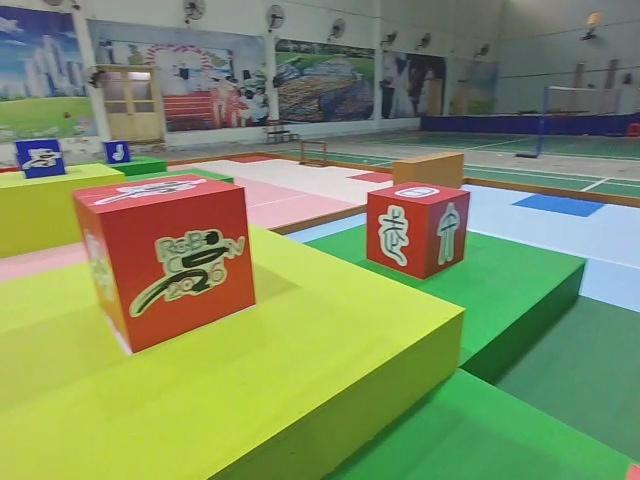R1: (69, 169, 259, 355)
R2 Fake: (363, 178, 473, 282)
